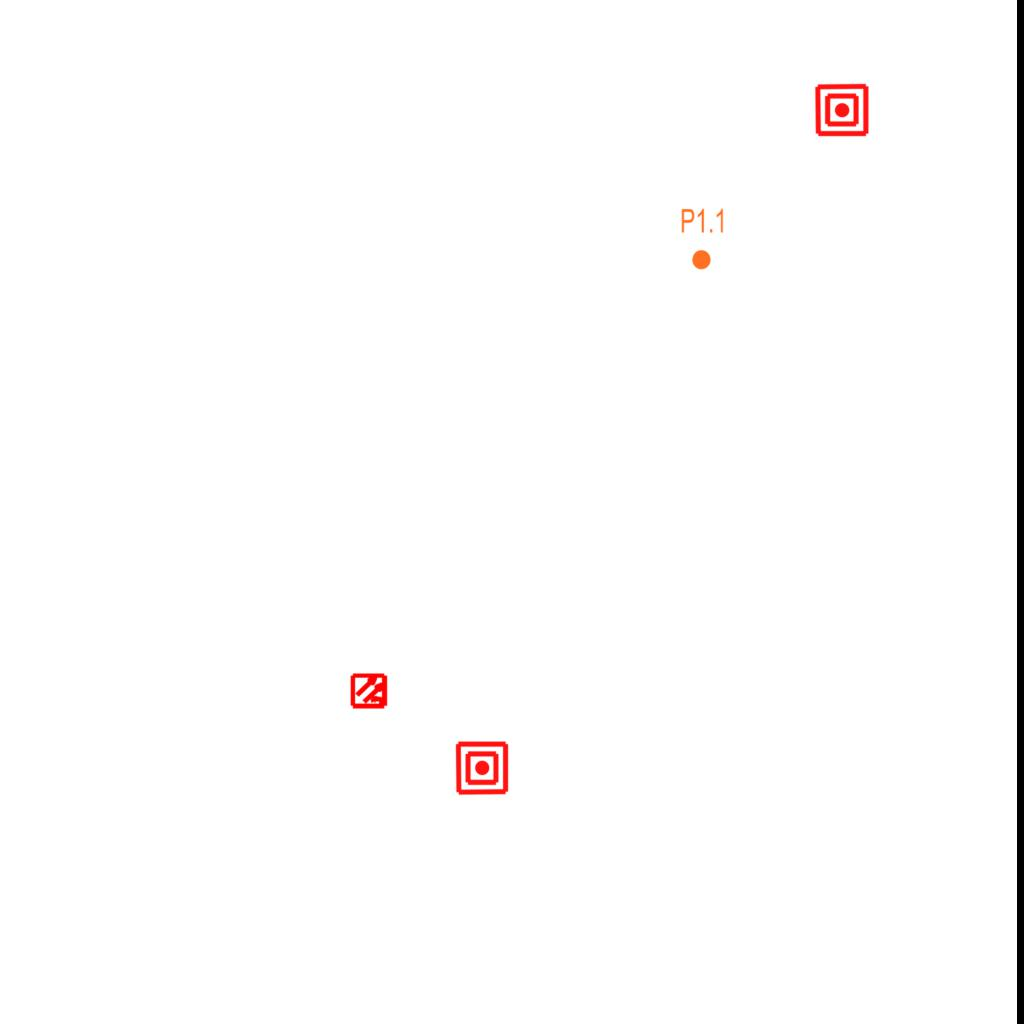Downlight_LED_Einbauleuchten_Flur: (680, 207, 726, 271)
NAM-Nichtautomatischer_Melder: (814, 82, 870, 138), (454, 740, 510, 796)
OT_Multisensormelder_(Kombination_RMO_WMD): (342, 663, 398, 719)
